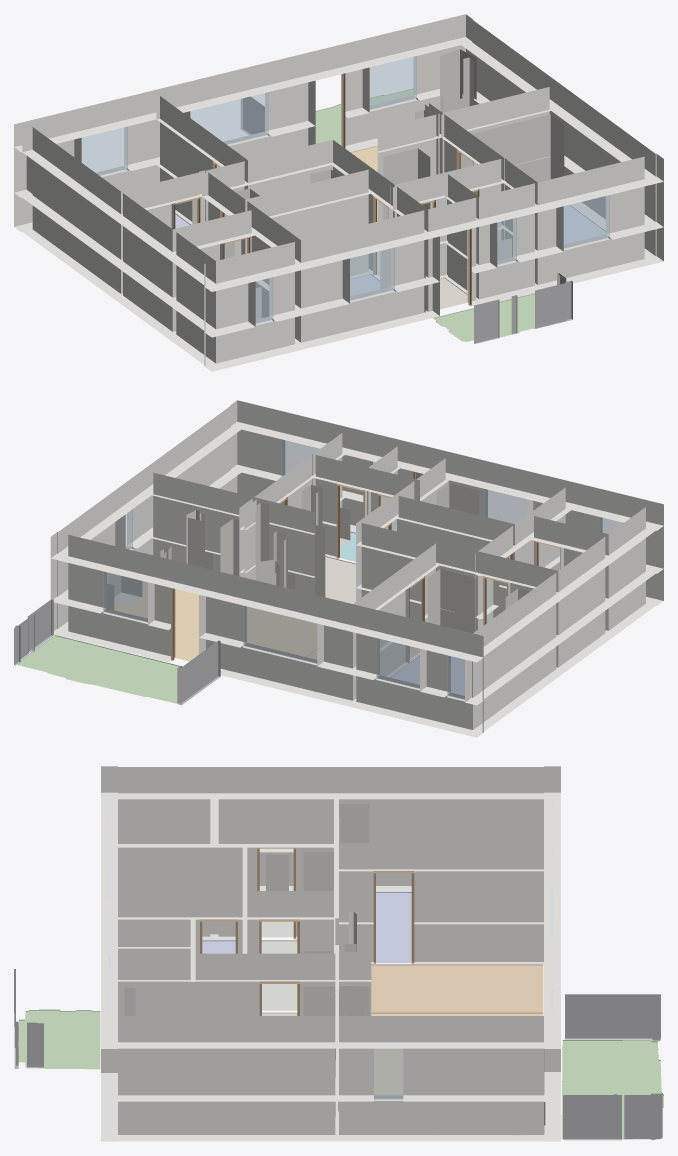
3 views of the same model, one above another, from view 1: azimuth 30°, elevation 25°; view 2: azimuth 150°, elevation 25°; view 3: azimuth 270°, elevation 25° (orthographic). The views are drawn at different scales.
Parts seen in each view (by area): view 1: walls, furniture_10_closet, railings, window_6, window_3, window_1, floor_12_Outdoor, window_2, window_4, furniture_13_closet, furniture_0_closet, floor_11_Outdoor (+6 smaller); view 2: walls, floor_11_Outdoor, floor_2_Kitchen, railings, window_6, furniture_3_closet, window_3, window_4, floor_3_Entry, window_2, furniture_4_closet, furniture_17_closet (+8 smaller); view 3: walls, railings, floor_1_Living_Room, floor_11_Outdoor, floor_12_Outdoor, floor_0_Bed_Room, floor_2_Kitchen, window_8, floor_6_Undefined, furniture_11_closet, furniture_2_closet, furniture_10_closet (+4 smaller).
Boxes of the visible parts, box(x1,y1,x2,y2) form: walls: box(14, 14, 663, 371); furniture_10_closet: box(460, 114, 564, 182); railings: box(241, 97, 572, 343); window_6: box(187, 92, 268, 144); window_3: box(369, 56, 416, 109); window_1: box(563, 191, 609, 248); floor_12_Outdoor: box(433, 293, 534, 341); window_2: box(347, 244, 394, 300); window_4: box(79, 124, 127, 175); furniture_13_closet: box(383, 148, 430, 219); furniture_0_closet: box(440, 49, 476, 112); floor_11_Outdoor: box(315, 89, 412, 144); walls: box(50, 400, 663, 737); floor_11_Outdoor: box(18, 635, 179, 703); floor_2_Kitchen: box(114, 581, 316, 661); railings: box(14, 472, 423, 705); window_6: box(243, 602, 317, 663); furniture_3_closet: box(427, 569, 476, 633); window_3: box(103, 571, 147, 621); window_4: box(376, 635, 421, 688); floor_3_Entry: box(325, 556, 355, 603); window_2: box(484, 485, 526, 523); furniture_4_closet: box(220, 518, 239, 576); furniture_17_closet: box(436, 483, 479, 515); walls: box(101, 766, 560, 1141); railings: box(14, 969, 662, 1140); floor_1_Living_Room: box(371, 964, 543, 1012); floor_11_Outdoor: box(561, 1040, 663, 1139); floor_12_Outdoor: box(18, 1009, 100, 1069); floor_0_Bed_Room: box(376, 892, 411, 962); floor_2_Kitchen: box(371, 1012, 543, 1094); window_8: box(374, 1048, 403, 1098); floor_6_Undefined: box(261, 940, 297, 1010); furniture_11_closet: box(303, 852, 333, 890); furniture_2_closet: box(339, 804, 369, 842); furniture_10_closet: box(303, 986, 335, 1116).
Size of the model in its own units: 12.47 by 2.72 by 13.36.
